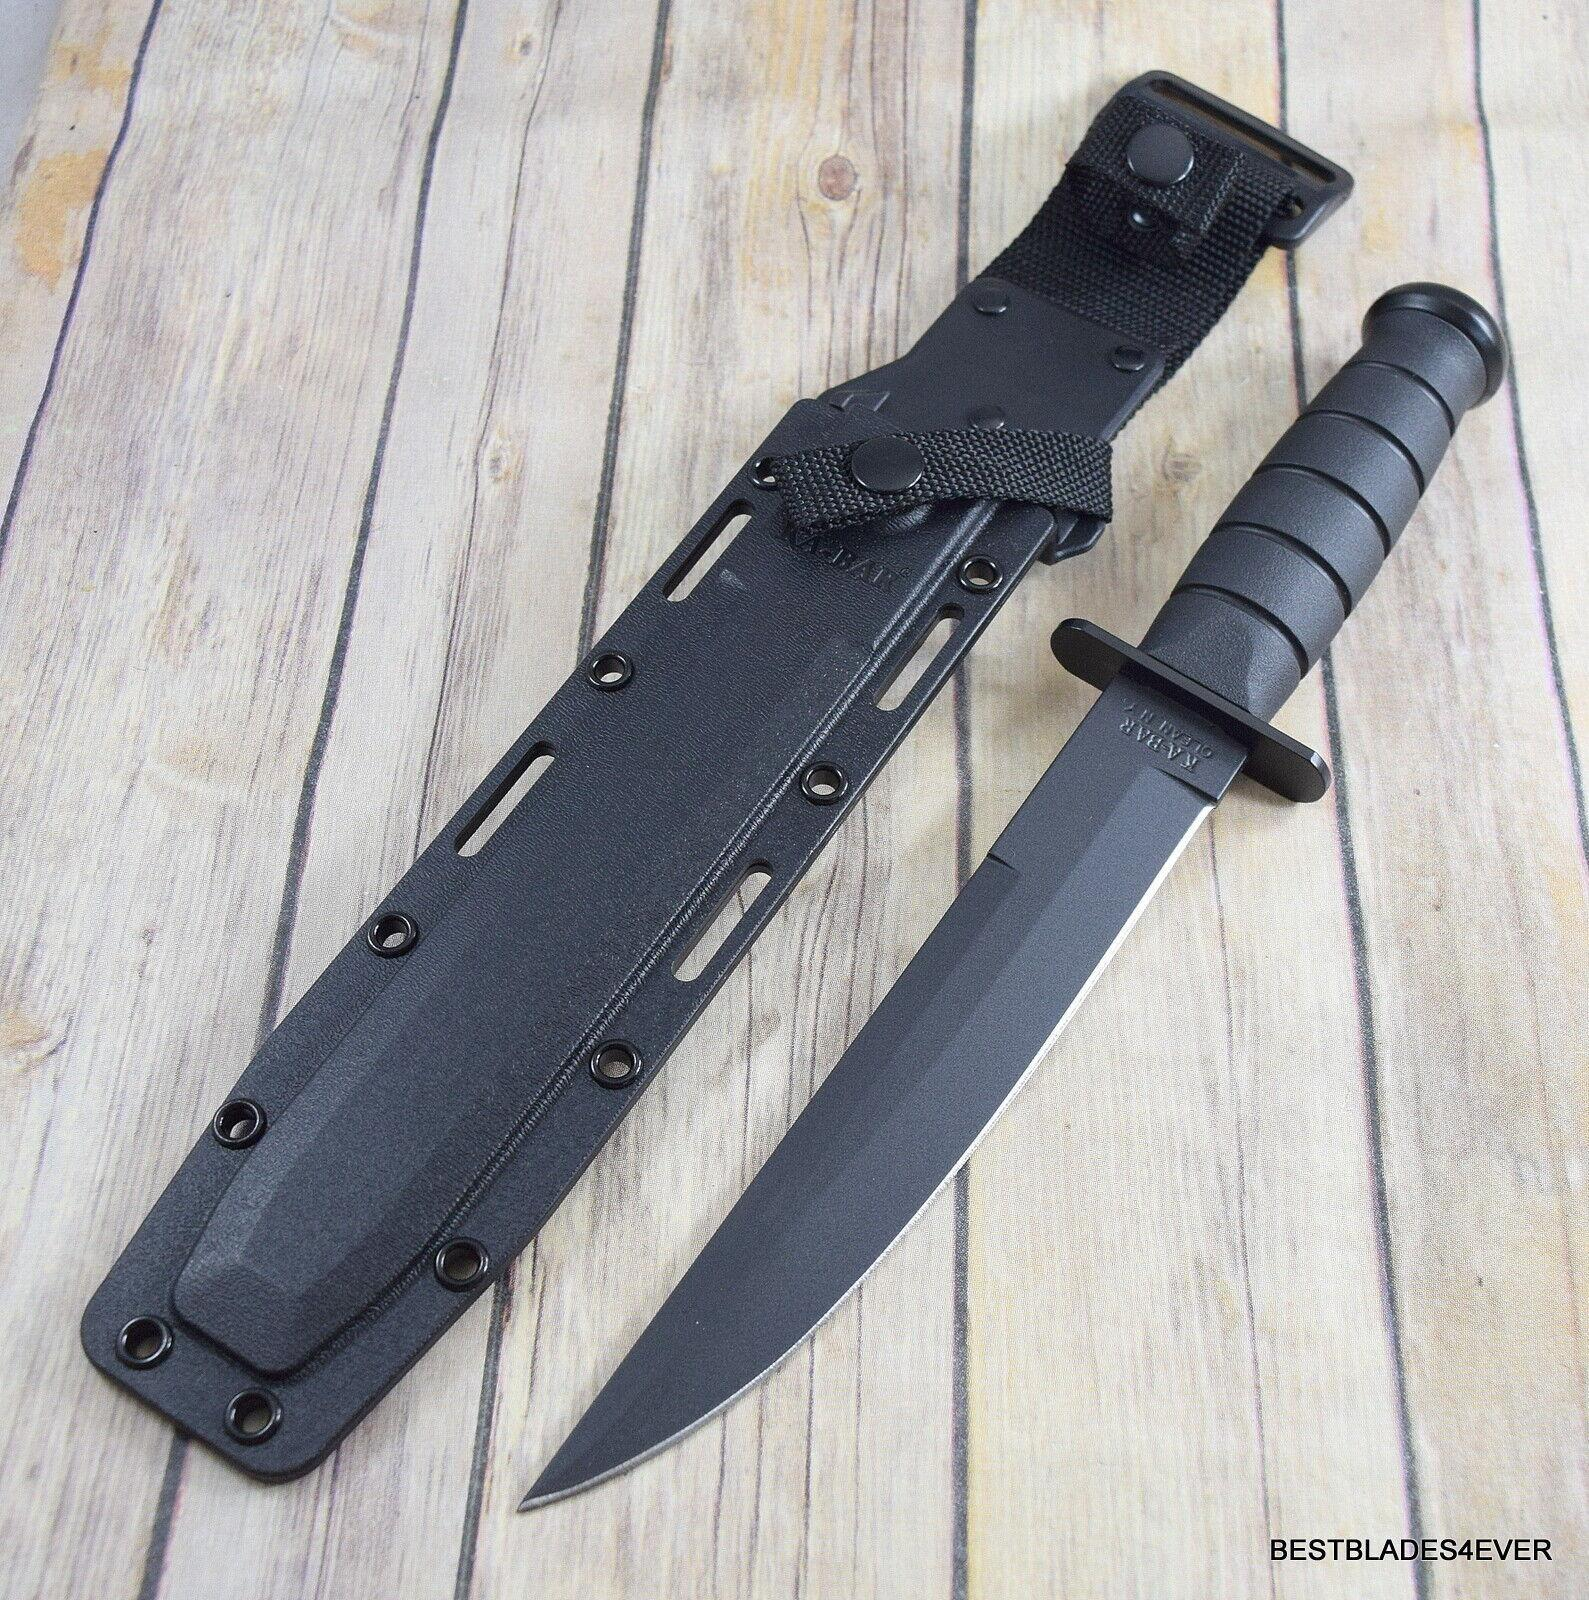faca: (522, 284, 1503, 1508)
